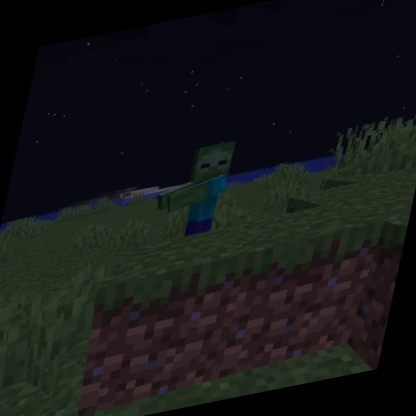zombie: (145, 137, 245, 244)
